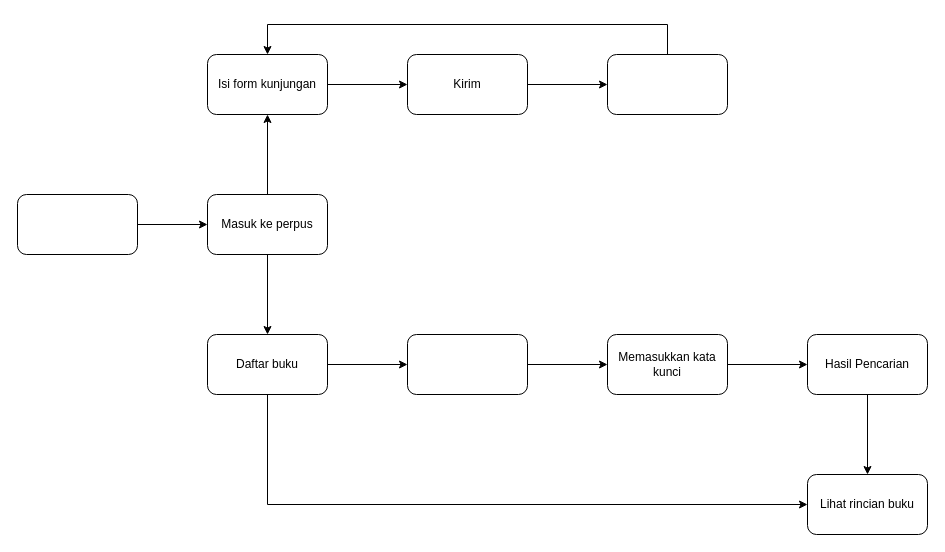
Image size: 945x552. Some labels were removed from this diagram. The centre of each missing label's shape, as x and y in pixels:
"Daftar kunjungan" belongs at point (667, 84).
"Pencarian" belongs at point (467, 364).
"User" belongs at point (77, 224).
